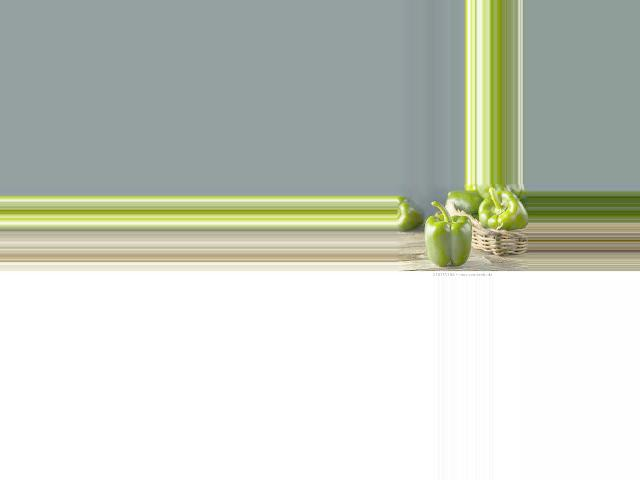bell_pepper: (396, 196, 415, 225)
